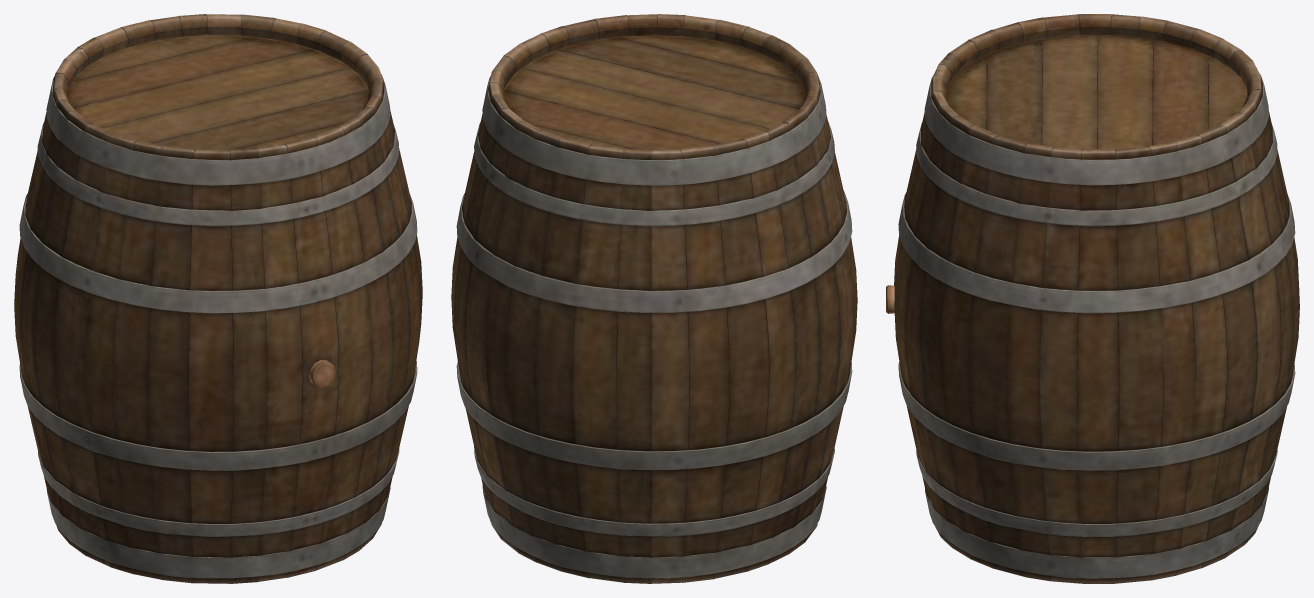
Rendered from wine_barrel_01.glb.
3 renders of one model, left to right at view 1: azimuth 30°, elevation 25°; view 2: azimuth 150°, elevation 25°; view 3: azimuth 270°, elevation 25°, orthographic.
Visible parts, largest first — view 1: wine_barrel_01; view 2: wine_barrel_01; view 3: wine_barrel_01.
Boxes of the visible parts, x1,y1,x2,y2 form: wine_barrel_01: (14, 14, 422, 583); wine_barrel_01: (451, 14, 857, 583); wine_barrel_01: (886, 14, 1299, 583).
Size of the model in its own units: 0.7419 by 0.8713 by 0.756.
Materials: 1 (1 with a texture image).
